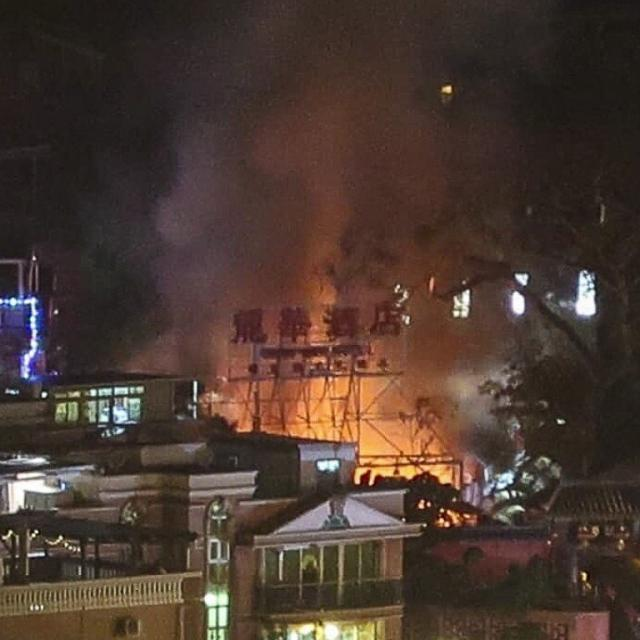Smoke: (138, 0, 552, 312)
